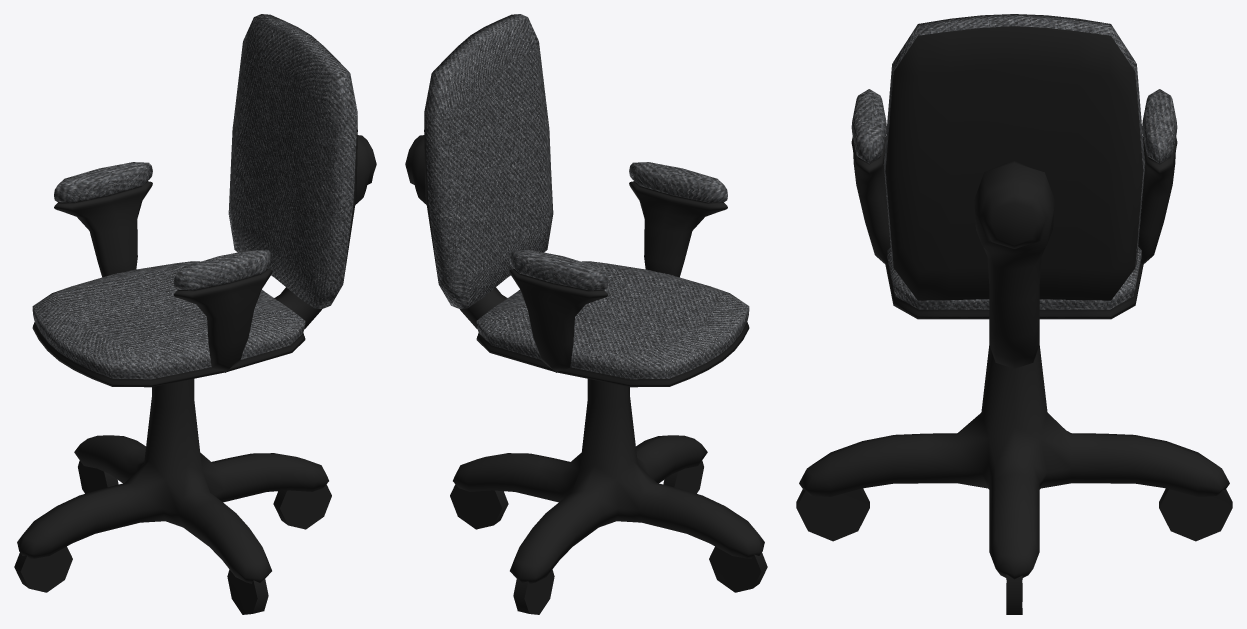
File: officechair.fbx
The picture shows the model from 3 angles, left to right: view 1: azimuth 30°, elevation 25°; view 2: azimuth 150°, elevation 25°; view 3: azimuth 270°, elevation 25°; orthographic projection. The views are drawn at different scales.
Visible parts, largest first — view 1: pCube9; view 2: pCube9; view 3: pCube9.
Part boxes in pixels (<box>): pCube9: <box>14,14,376,614</box>; pCube9: <box>405,14,767,614</box>; pCube9: <box>796,14,1232,614</box>.
Size of the model in its own units: 9.79 by 13.1 by 8.68.
